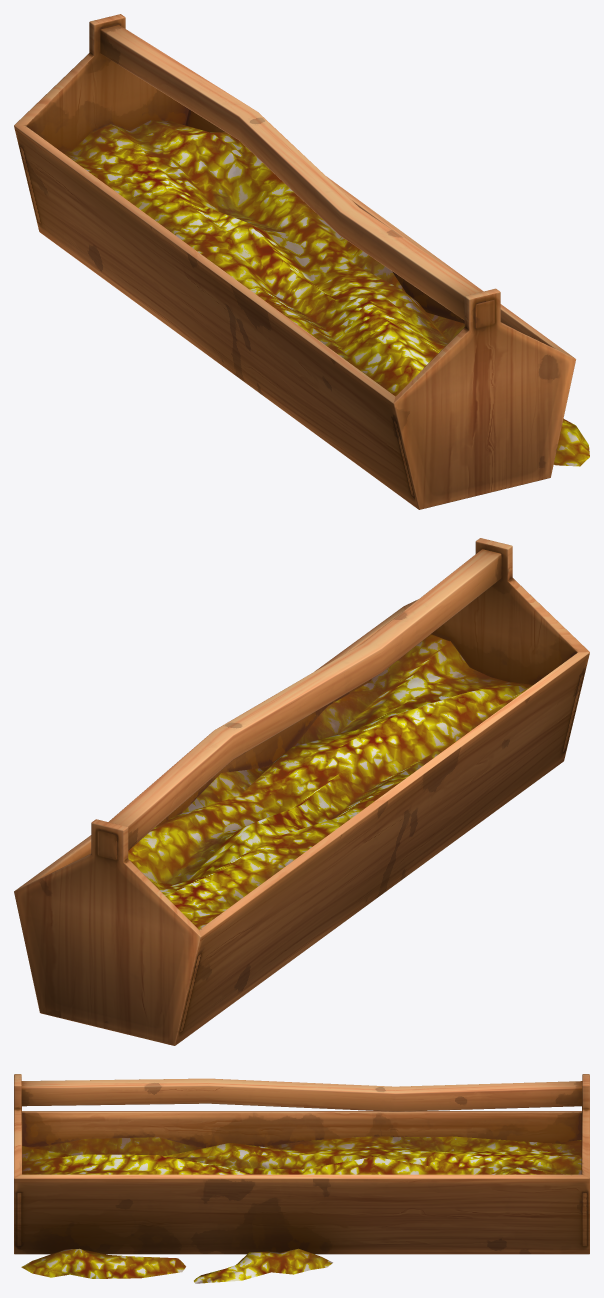
File: Feeder01.FBX
3 renders of one model, top to bottom at view 1: azimuth 30°, elevation 25°; view 2: azimuth 150°, elevation 25°; view 3: azimuth 270°, elevation 25°, orthographic. The views are drawn at different scales.
Parts seen in each view (by area): view 1: Feeder01; view 2: Feeder01; view 3: Feeder01.
Boxes of the visible parts, bbox=[...] form: Feeder01: bbox=[14, 14, 589, 509]; Feeder01: bbox=[14, 538, 589, 1045]; Feeder01: bbox=[14, 1074, 589, 1283].
Size of what is drawn, in the model's own units: 0.7168 by 0.5771 by 2.
